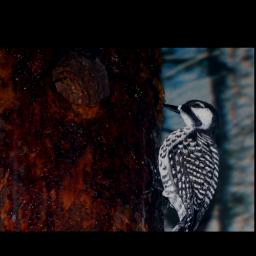Woodpecker: (142, 95, 225, 231)
